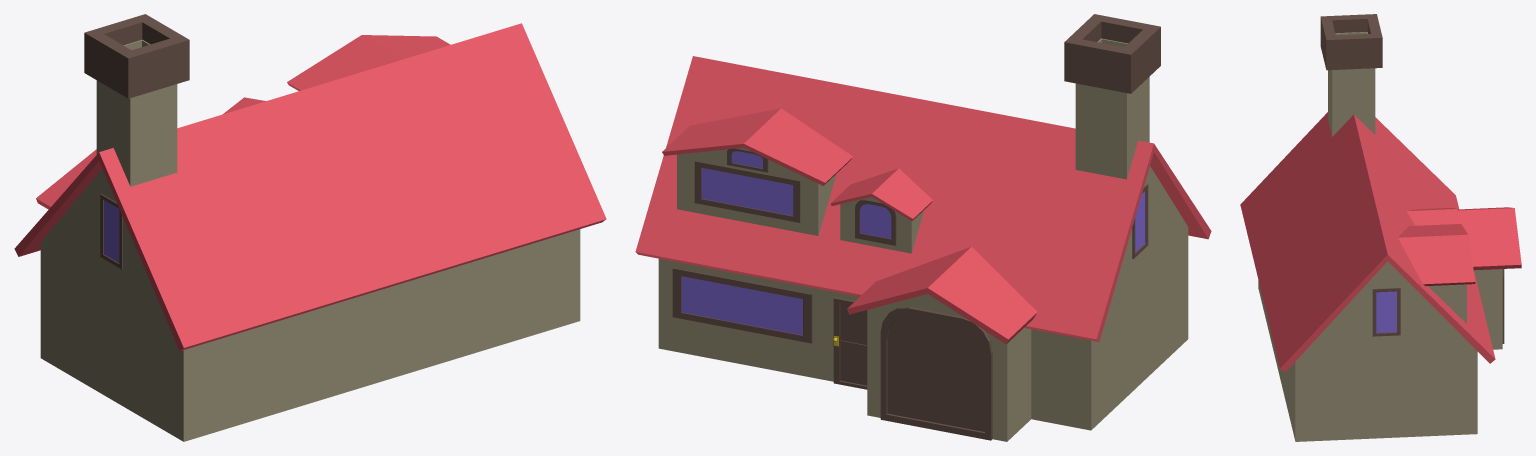
The model's file is CALLE7_CASA1_043.fbx.
3 views of the same model, side by side, from view 1: azimuth 30°, elevation 25°; view 2: azimuth 150°, elevation 25°; view 3: azimuth 270°, elevation 25° (orthographic). The views are drawn at different scales.
Parts seen in each view (by area): view 1: CASA1.043; view 2: CASA1.043; view 3: CASA1.043.
Boxes of the visible parts, x1=… form: CASA1.043: x1=14, y1=14, x2=606, y2=441; CASA1.043: x1=635, y1=14, x2=1211, y2=441; CASA1.043: x1=1240, y1=14, x2=1521, y2=441.
Bounding box in the file's own units: 1024 × 734 × 702.
